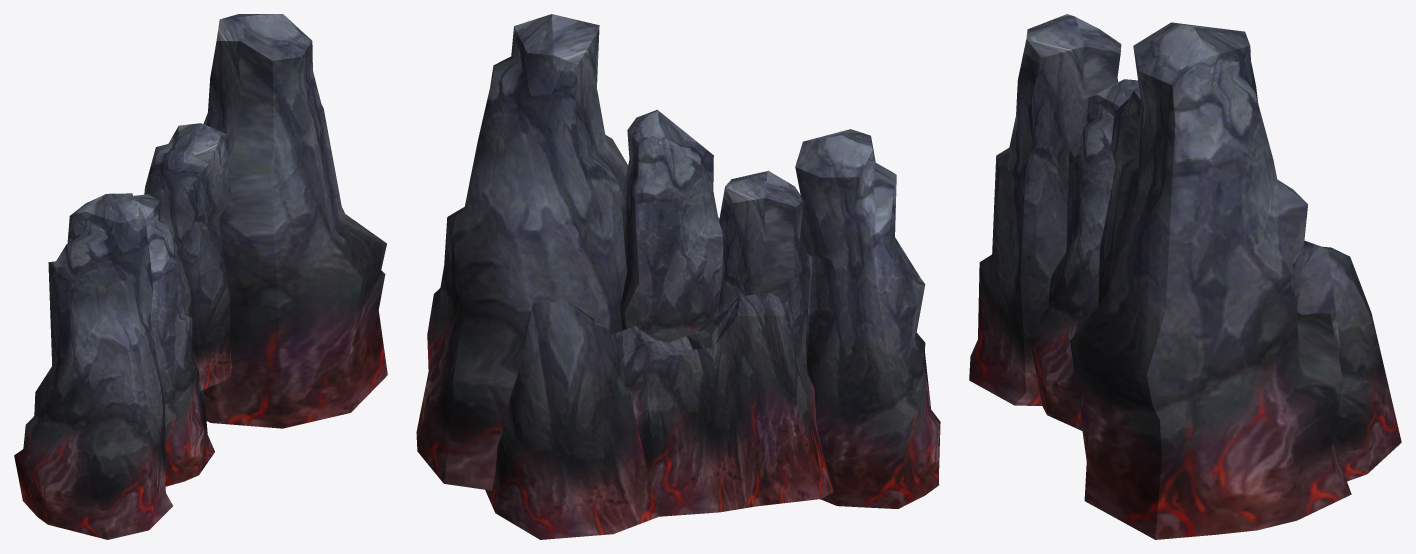
The model's file is environment_stone_yewai_005_a.FBX.
The picture shows the model from 3 angles, left to right: view 1: azimuth 30°, elevation 25°; view 2: azimuth 150°, elevation 25°; view 3: azimuth 270°, elevation 25°; orthographic projection. The views are drawn at different scales.
Visible parts, largest first — view 1: environment_stone_yewai_005_a; view 2: environment_stone_yewai_005_a; view 3: environment_stone_yewai_005_a.
Boxes of the visible parts, left/top/right/bottom form: environment_stone_yewai_005_a: left=14, top=14, right=387, bottom=539; environment_stone_yewai_005_a: left=416, top=14, right=940, bottom=539; environment_stone_yewai_005_a: left=969, top=14, right=1401, bottom=539.
Size of the model in its own units: 1538 by 1490 by 1228.
Materials: 1 (1 with a texture image).
